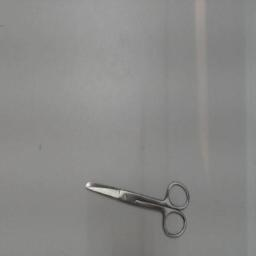Dressing Scissors: (79, 174, 195, 246)
